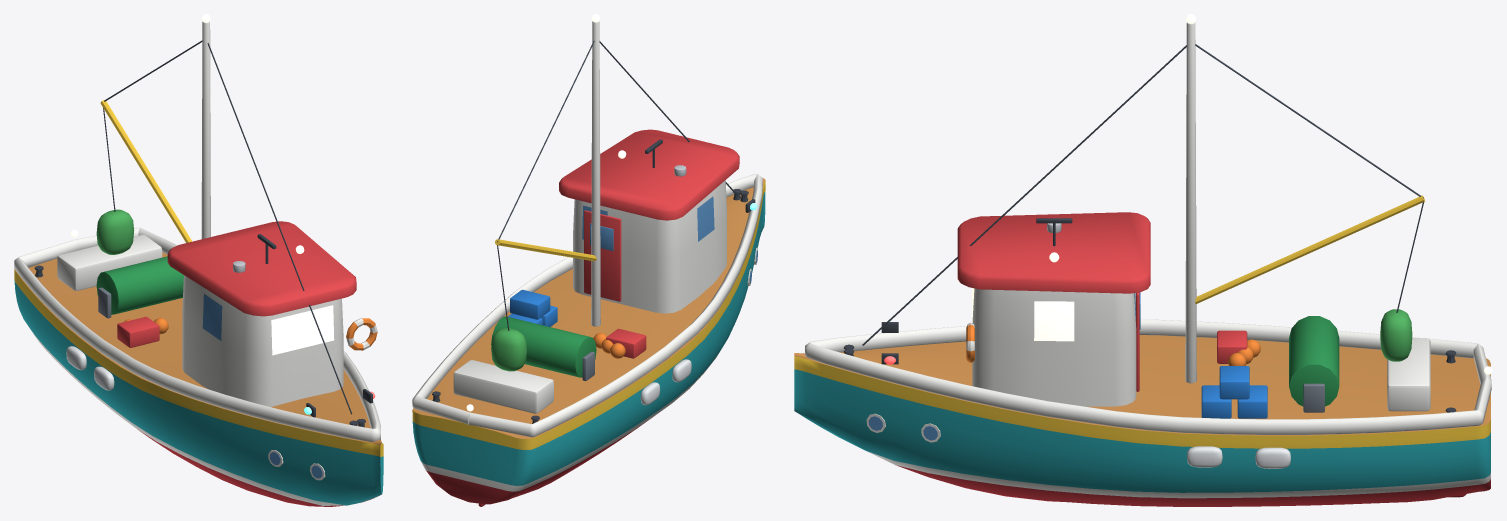
Rendered from barco_pesca.glb.
3 views of the same model, side by side, from view 1: azimuth 30°, elevation 25°; view 2: azimuth 150°, elevation 25°; view 3: azimuth 270°, elevation 25° (orthographic). The views are drawn at different scales.
Parts seen in each view (by area): view 1: barco_pesca; view 2: barco_pesca, porta_casaria; view 3: barco_pesca.
Part boxes in pixels (x1,y1,x2,y2): barco_pesca: [14, 14, 383, 506]; barco_pesca: [412, 14, 765, 506]; porta_casaria: [584, 210, 621, 301]; barco_pesca: [794, 14, 1492, 506].
Size of the model in its own units: 3.64 by 7.4 by 9.7.
6 materials, 1 textured.
